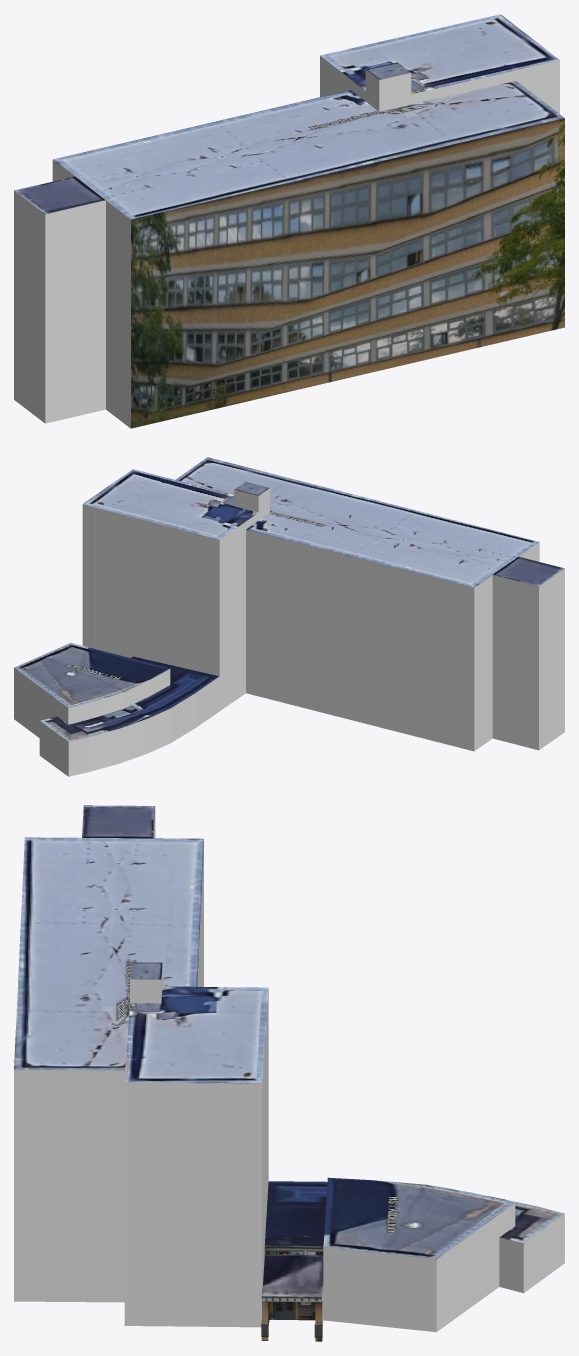
The model's file is Abbeanum (teils texturiert).glb.
3 views of the same model, one above another, from view 1: azimuth 30°, elevation 25°; view 2: azimuth 150°, elevation 25°; view 3: azimuth 270°, elevation 25° (orthographic). The views are drawn at different scales.
Parts seen in each view (by area): view 1: Plane; view 2: Plane; view 3: Plane.
Part boxes in pixels (x1,y1,x2,y2): Plane: (14,14,564,428); Plane: (14,457,564,776); Plane: (14,805,564,1341).
Size of the model in its own units: 15.52 by 6.34 by 11.85.
1 material, 1 textured.
